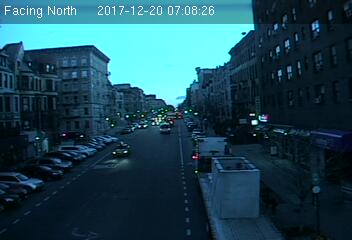car: (110, 141, 133, 157)
truck: (191, 137, 293, 239)
